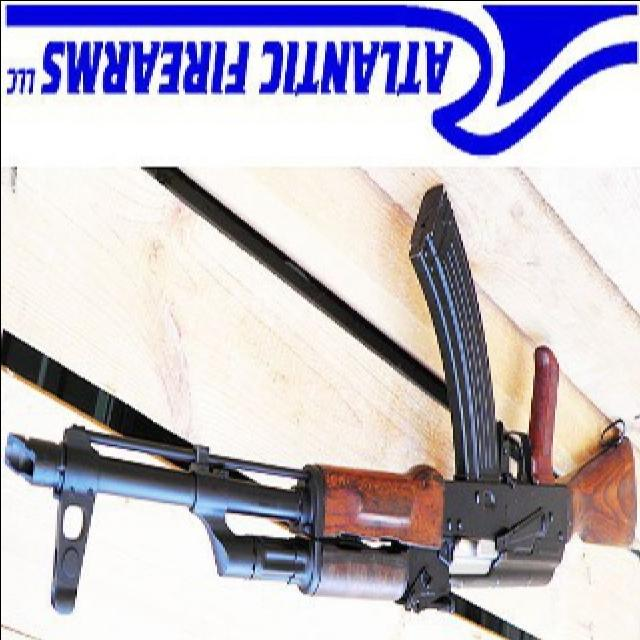rifle: (5, 168, 640, 626)
